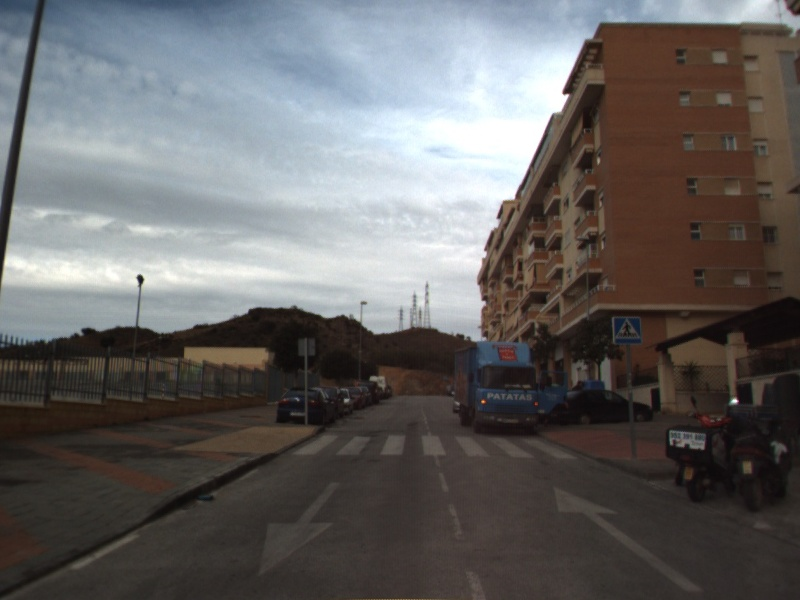STRAIGHT: (552, 485, 706, 594)
